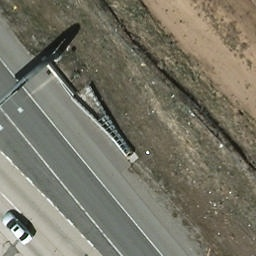car: (0, 210, 36, 248)
